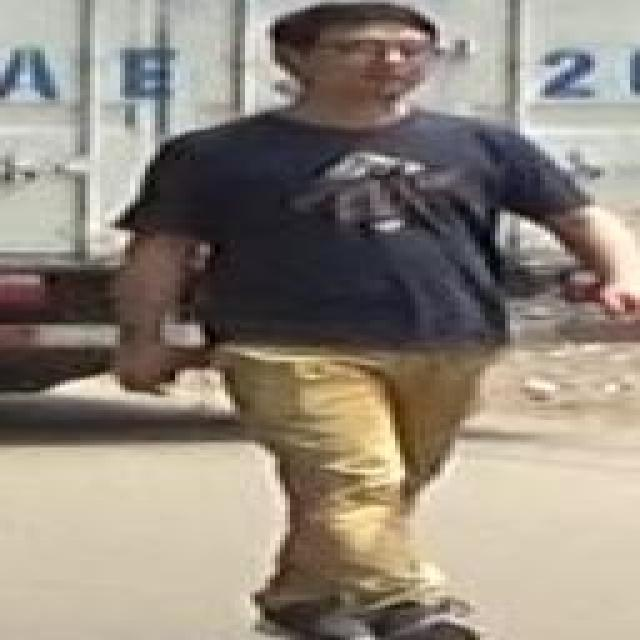adult: (96, 3, 640, 640)
